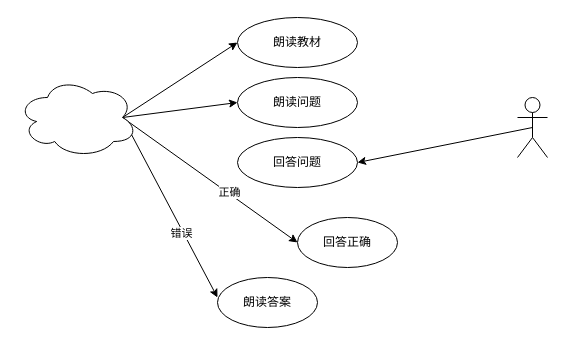
This 565x345 diagram has some shape labels left out. The shapes that lost their labels are listed below. From the top down, each one's centre as x and y in pixels, then its label:
(77,117): 平台
(532,127): 用户
